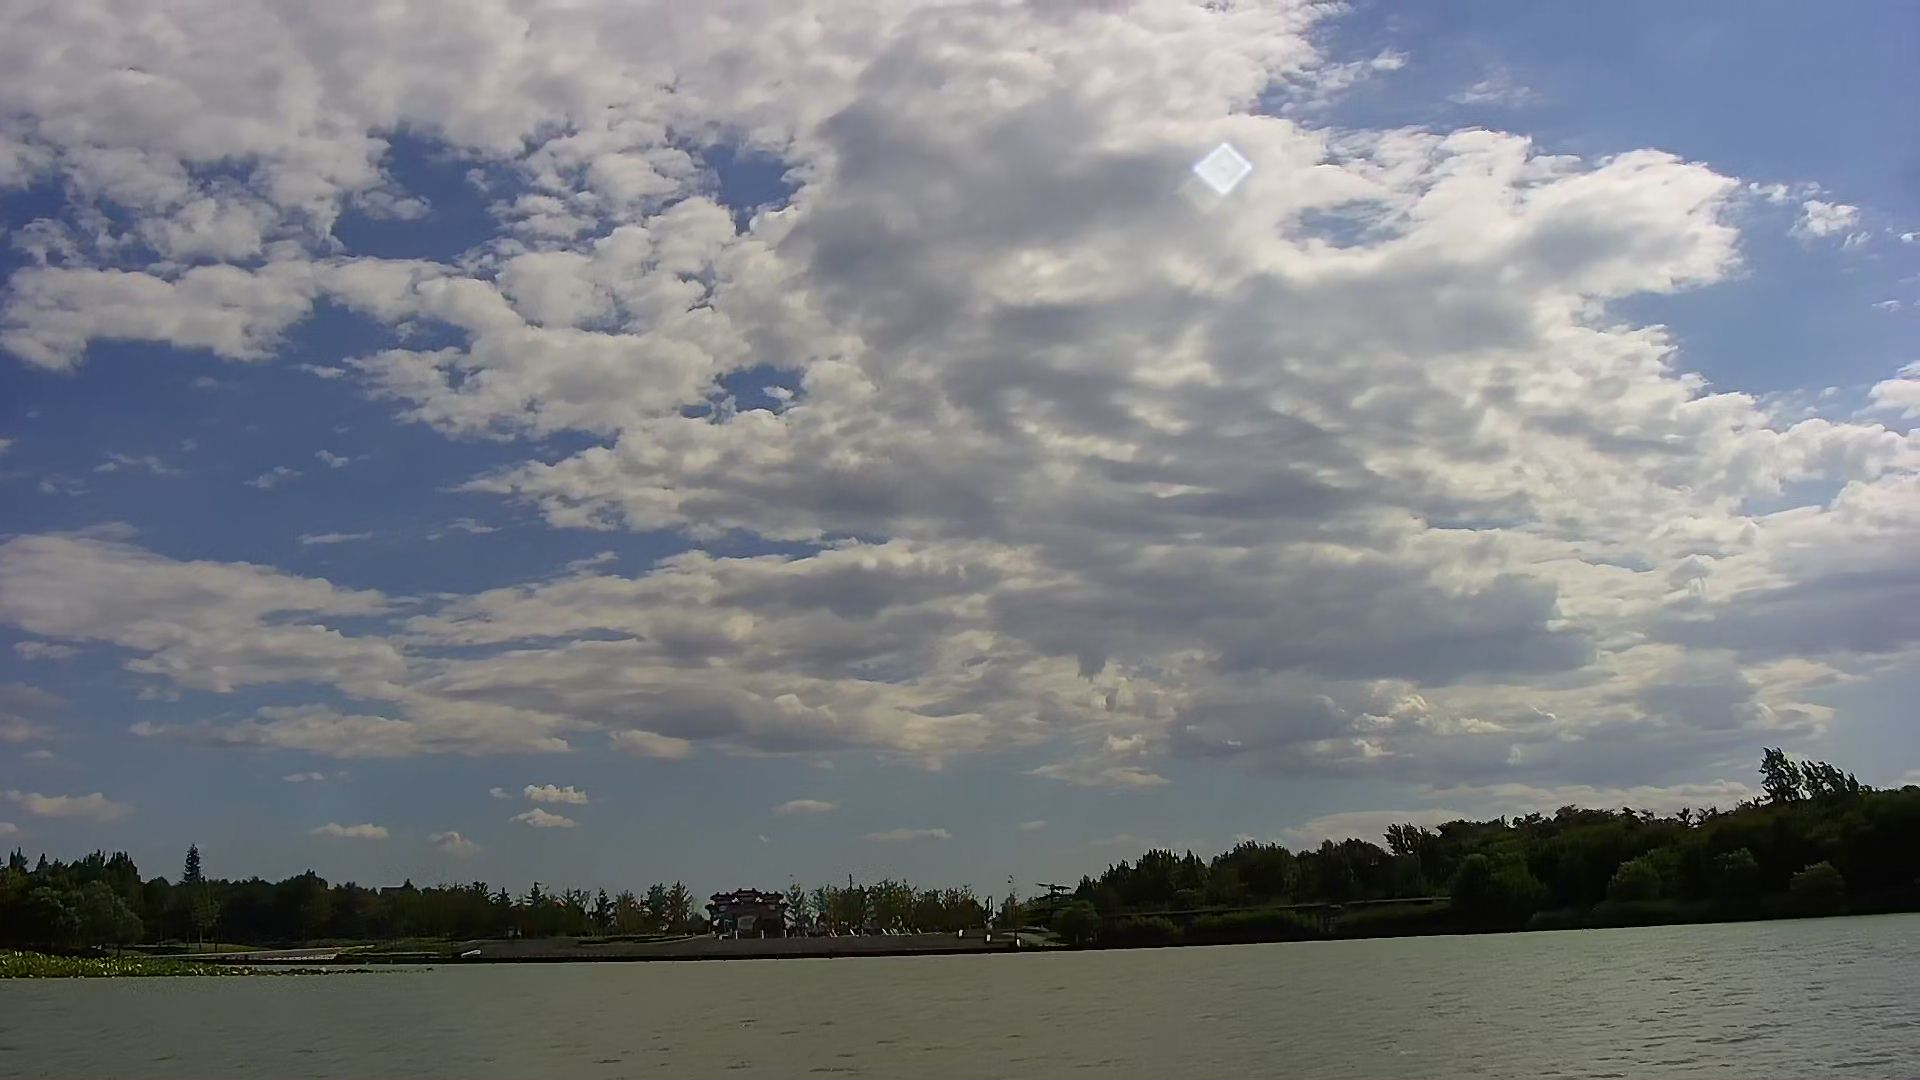harbor: (467, 923, 1095, 961)
